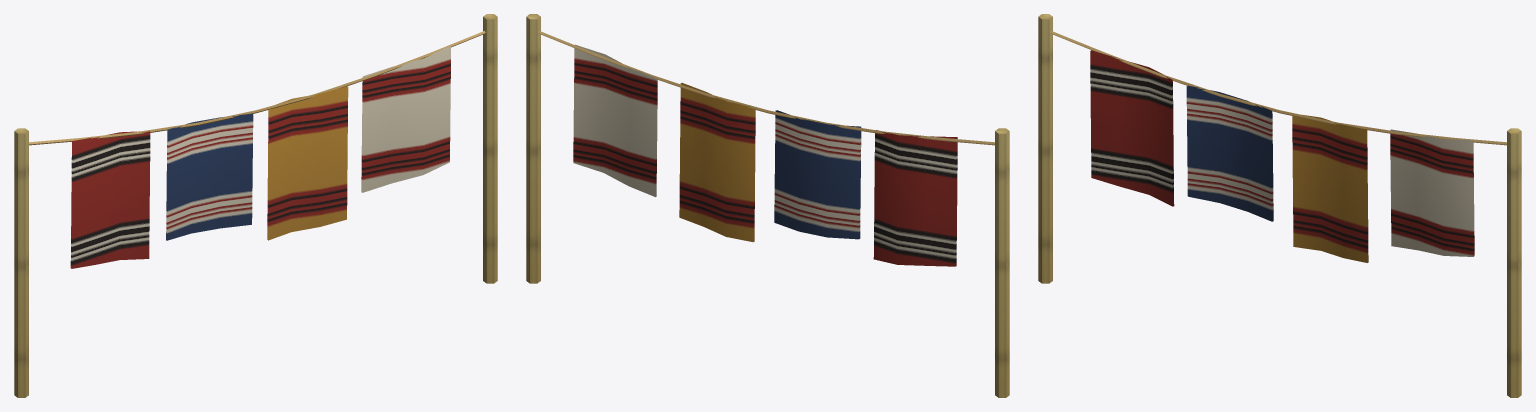
The model's file is market_cloth_line.glb.
The picture shows the model from 3 angles, left to right: view 1: azimuth 30°, elevation 25°; view 2: azimuth 150°, elevation 25°; view 3: azimuth 330°, elevation 25°; orthographic projection.
Visible parts, largest first — view 1: market_cloth_line; view 2: market_cloth_line; view 3: market_cloth_line.
Boxes of the visible parts, x1=… form: market_cloth_line: x1=14, y1=14, x2=497, y2=397; market_cloth_line: x1=526, y1=14, x2=1009, y2=397; market_cloth_line: x1=1038, y1=14, x2=1521, y2=397.
Bounding box in the file's own units: 4.5 × 2.37 × 0.12.
1 material, 1 textured.
